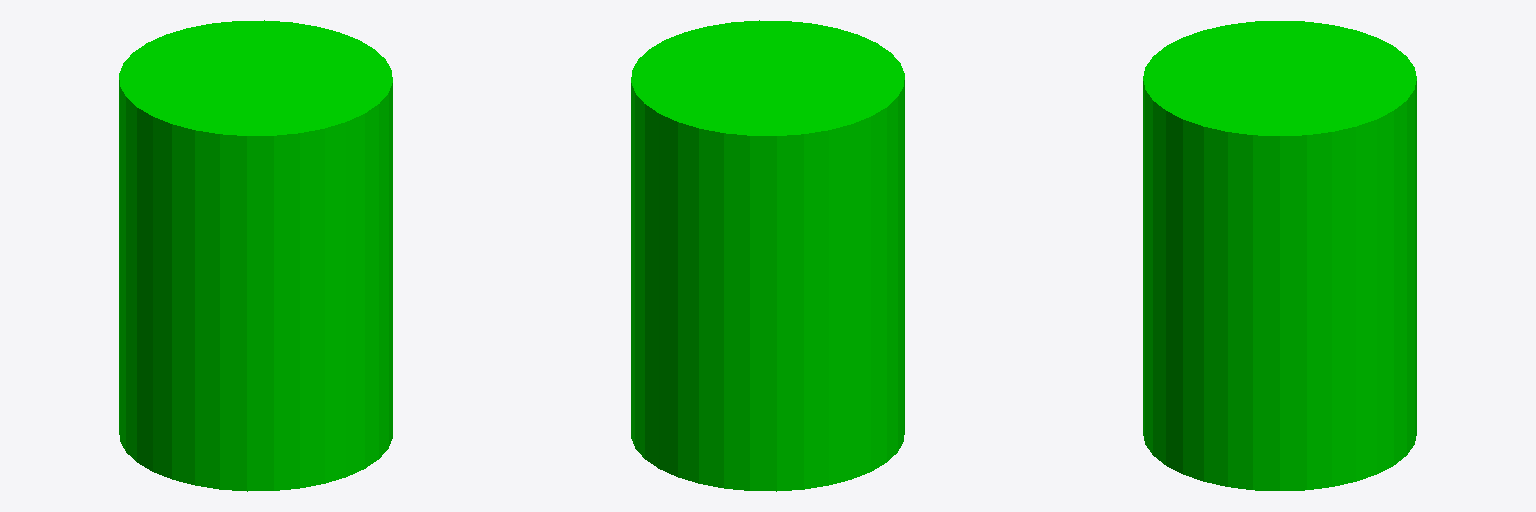
The robot description file, URDF, robot "simple_cylinder":
<?xml version="1.0"?>
<robot name="simple_cylinder">
  <link name="cylinder_base">
    <contact>
      <lateral_friction value="0.5"/>
      <rolling_friction value="0.0"/>
      <contact_cfm value="0.0"/>
      <contact_erp value="0.5"/>
    </contact>
    <inertial>
      <origin xyz="0 0 0" rpy="0 0 0" />
      <mass value="0.088" />
      <inertia ixx="0.0001471708" ixy="0" ixz="0" iyy="0.0001471708" iyz="0"
               izz="0.000046475" />
    </inertial>
    <visual>
      <origin xyz="0 0 0" rpy="0 0 0" />
      <geometry>
        <cylinder length="0.150" radius="0.0525" />
      </geometry>
      <material name="bright green">
        <color rgba="0.0 0.9 0.0 1" />
      </material>
    </visual>
    <collision>
      <geometry>
        <cylinder length="0.150" radius="0.0525" />
      </geometry>
    </collision>
   </link>
</robot>

--- What the picture shows (computed from the rendered views, not written in the file) ---
Views: 3 orthographic renders of the robot side by side, from view 1: azimuth 30°, elevation 25°; view 2: azimuth 150°, elevation 25°; view 3: azimuth 270°, elevation 25°.
Robot: simple_cylinder — 1 links, 0 joints (none); root link cylinder_base; default pose: every joint at zero.
Links seen in each view (by area): view 1: cylinder_base; view 2: cylinder_base; view 3: cylinder_base.
Link boxes in pixels (left/top/right/bottom): cylinder_base: left=119, top=20, right=392, bottom=491; cylinder_base: left=631, top=20, right=904, bottom=491; cylinder_base: left=1143, top=21, right=1416, bottom=490.
Size in the robot's own frame: 0.105 by 0.105 by 0.15 metres.
Geometry: primitives only (box / cylinder / sphere), no mesh files.